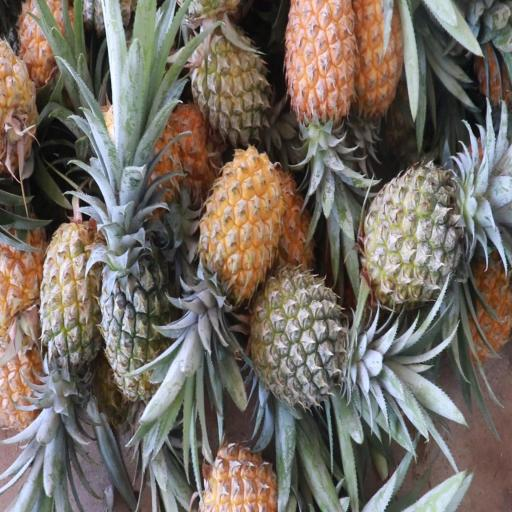------------------------------: (43, 223, 107, 395)
Pineapple - v8 v1: (202, 152, 274, 380), (288, 0, 358, 234), (18, 0, 92, 115), (358, 1, 407, 148), (0, 218, 46, 345), (0, 45, 39, 177), (0, 347, 53, 433)
